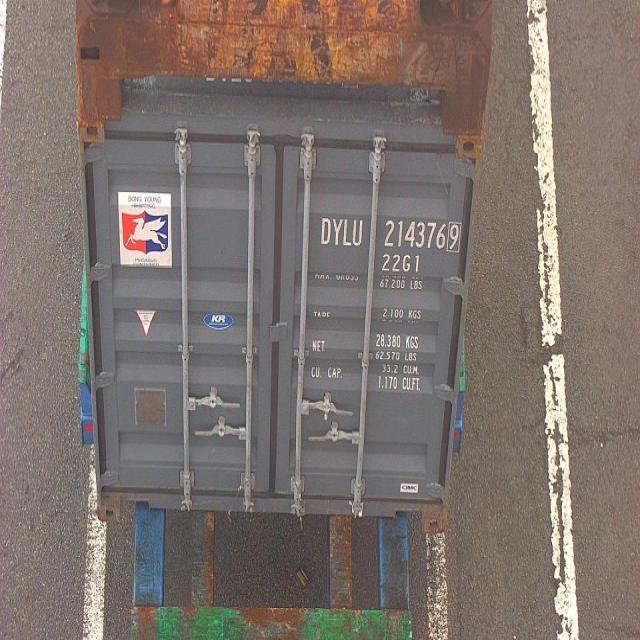ISO: (381, 252, 421, 275)
container_number: (320, 214, 463, 252)
